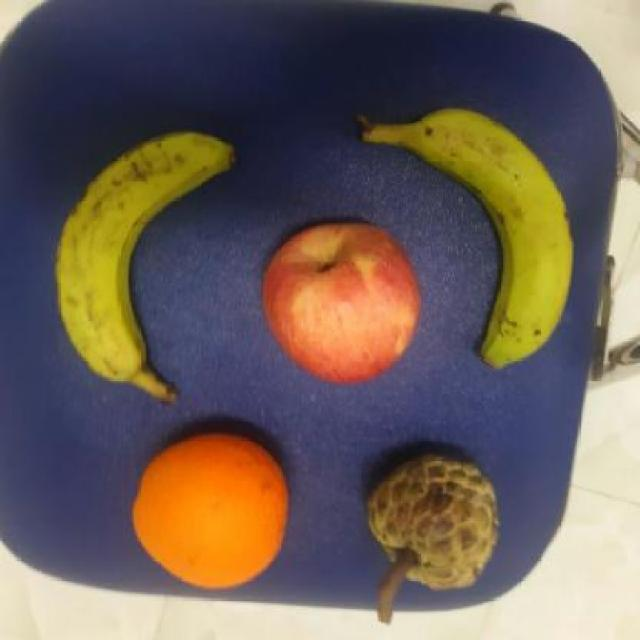apple: (252, 212, 426, 386)
banana: (348, 107, 580, 373), (49, 123, 232, 409)
oren: (131, 422, 294, 593)
sugar apple: (363, 445, 508, 593)
